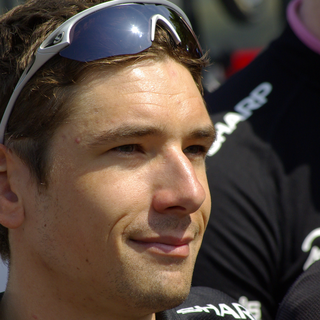eye: (100, 136, 152, 162), (180, 138, 210, 162)
